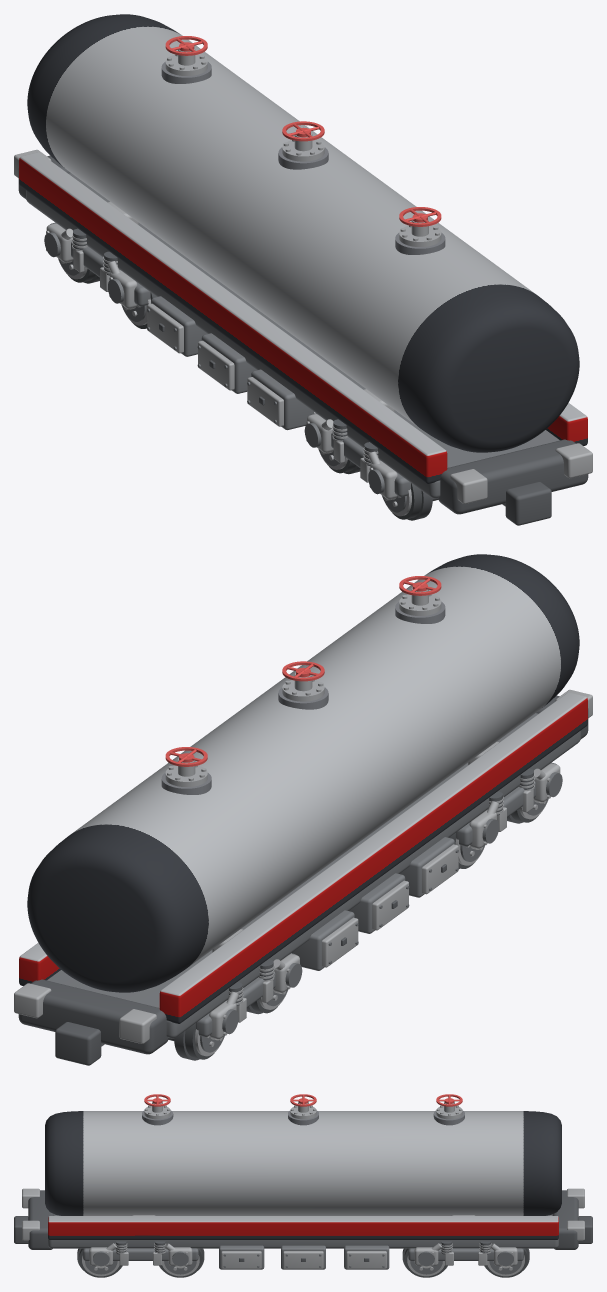
File: tank.glb
The picture shows the model from 3 angles, top to bottom: view 1: azimuth 30°, elevation 25°; view 2: azimuth 150°, elevation 25°; view 3: azimuth 270°, elevation 25°; orthographic projection. The views are drawn at different scales.
Visible parts, largest first — view 1: continuous_tank, painted_sill_-1, underframe, rear_bufferbeam, rear_coupler_head, L_underbox1, painted_sill_1, L_underbox_face2, L_underbox_face0, L_underbox_face1, L_underbox2, L_underbox0 (+4 smaller); view 2: continuous_tank, painted_sill_-1, underframe, front_bufferbeam, front_coupler_head, L_underbox2, painted_sill_1, L_underbox_face0, L_underbox_face1, L_underbox_face2, L_underbox0, L_underbox1 (+4 smaller); view 3: continuous_tank, painted_sill_1, underframe, rear_bufferbeam, front_bufferbeam, R_underbox_face1, R_underbox_face2, R_underbox_face0, bogie1_sideframe1, bogie0_sideframe1, R_underbox1, R_underbox2 (+5 smaller).
Boxes of the visible parts, <box> form: continuous_tank: <box>27,14,579,452</box>; painted_sill_-1: <box>19,152,447,483</box>; underframe: <box>26,173,559,498</box>; rear_bufferbeam: <box>438,439,588,514</box>; rear_coupler_head: <box>505,482,551,525</box>; L_underbox1: <box>251,369,314,430</box>; painted_sill_1: <box>546,403,587,445</box>; L_underbox_face2: <box>147,303,183,353</box>; L_underbox_face0: <box>198,340,234,390</box>; L_underbox_face1: <box>247,377,283,426</box>; L_underbox2: <box>151,296,206,356</box>; L_underbox0: <box>201,333,256,393</box>; continuous_tank: <box>27,554,579,992</box>; painted_sill_-1: <box>159,692,587,1023</box>; underframe: <box>47,713,580,1038</box>; front_bufferbeam: <box>18,979,168,1054</box>; front_coupler_head: <box>55,1022,101,1065</box>; L_underbox2: <box>292,910,354,970</box>; painted_sill_1: <box>19,943,60,985</box>; L_underbox_face0: <box>372,880,408,930</box>; L_underbox_face1: <box>422,844,458,894</box>; L_underbox_face2: <box>322,917,358,967</box>; L_underbox0: <box>349,873,405,933</box>; L_underbox1: <box>400,837,454,897</box>; continuous_tank: <box>45,1111,561,1215</box>; painted_sill_1: <box>48,1216,558,1239</box>; underframe: <box>48,1214,558,1248</box>; rear_bufferbeam: <box>28,1190,54,1249</box>; front_bufferbeam: <box>552,1190,578,1249</box>; R_underbox_face1: <box>221,1251,261,1268</box>; R_underbox_face2: <box>346,1251,386,1268</box>; R_underbox_face0: <box>283,1251,323,1268</box>; bogie1_sideframe1: <box>83,1248,198,1260</box>; bogie0_sideframe1: <box>408,1248,523,1260</box>; R_underbox1: <box>219,1245,264,1269</box>; R_underbox2: <box>344,1245,389,1269</box>.
Size of the model in its own units: 1.92 by 2.52 by 8.33.
Materials: 9 (2 with a texture image).
